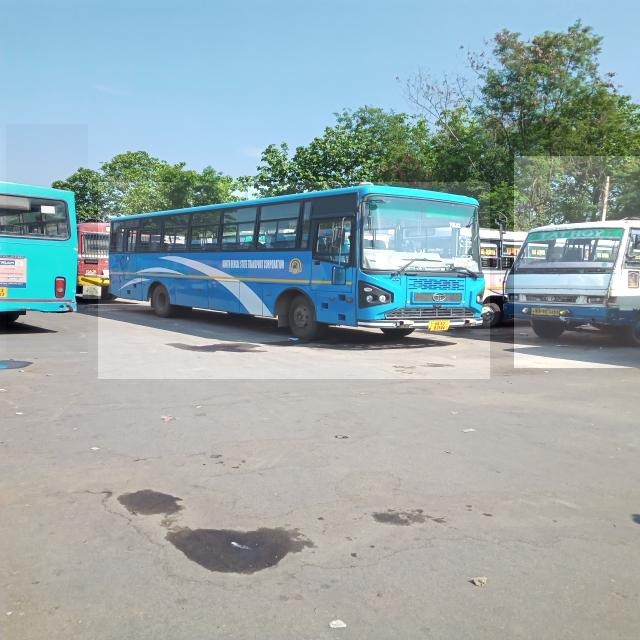Bus: (98, 182, 490, 379), (514, 156, 640, 368), (7, 125, 88, 352)
